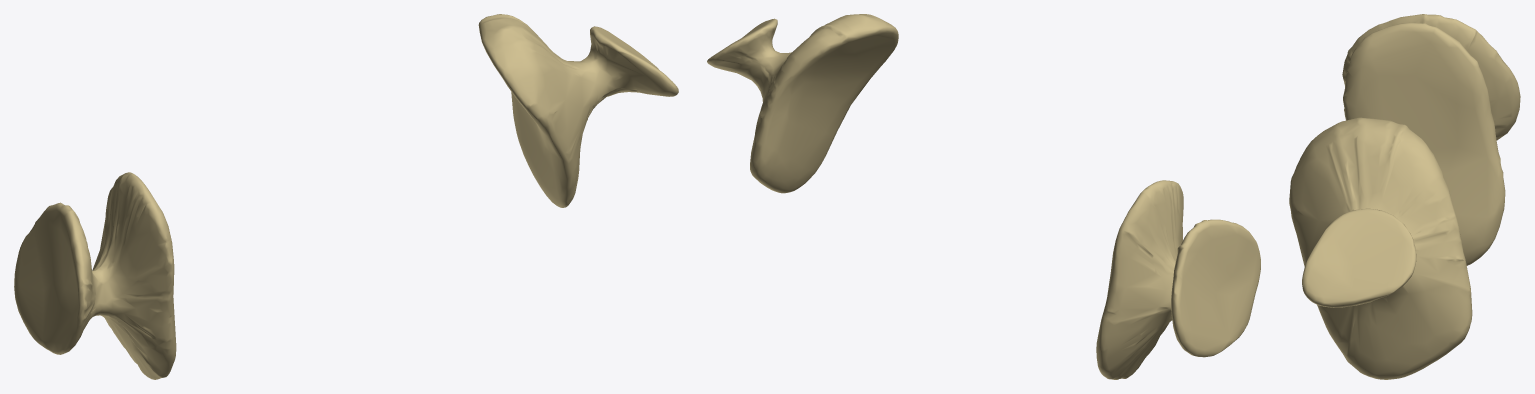
The picture shows the model from 3 angles, left to right: view 1: azimuth 30°, elevation 25°; view 2: azimuth 150°, elevation 25°; view 3: azimuth 270°, elevation 25°; orthographic projection. The views are drawn at different scales.
Visible parts, largest first — view 1: 左侧眼球悬韧带; view 2: 左侧眼球悬韧带; view 3: 左侧眼球悬韧带.
Boxes of the visible parts, x1,y1,x2,y2 form: 左侧眼球悬韧带: (14,14,678,379); 左侧眼球悬韧带: (707,14,1260,379); 左侧眼球悬韧带: (1289,14,1520,379).
Bounding box in the file's own units: 0.057 × 0.0271 × 0.0172.
